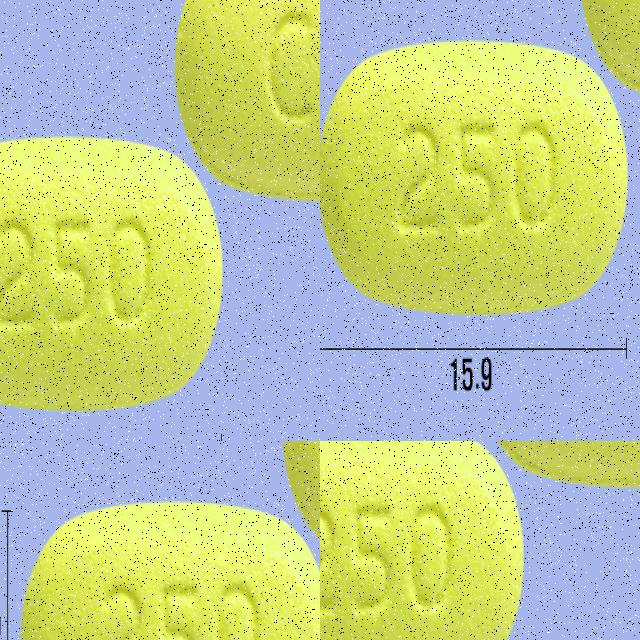Clao: (320, 441, 532, 640)
Claxin - 500mg: (369, 144, 640, 426)
Croracin: (0, 150, 193, 408), (184, 0, 320, 218)
Doxiendi: (22, 441, 267, 640)
